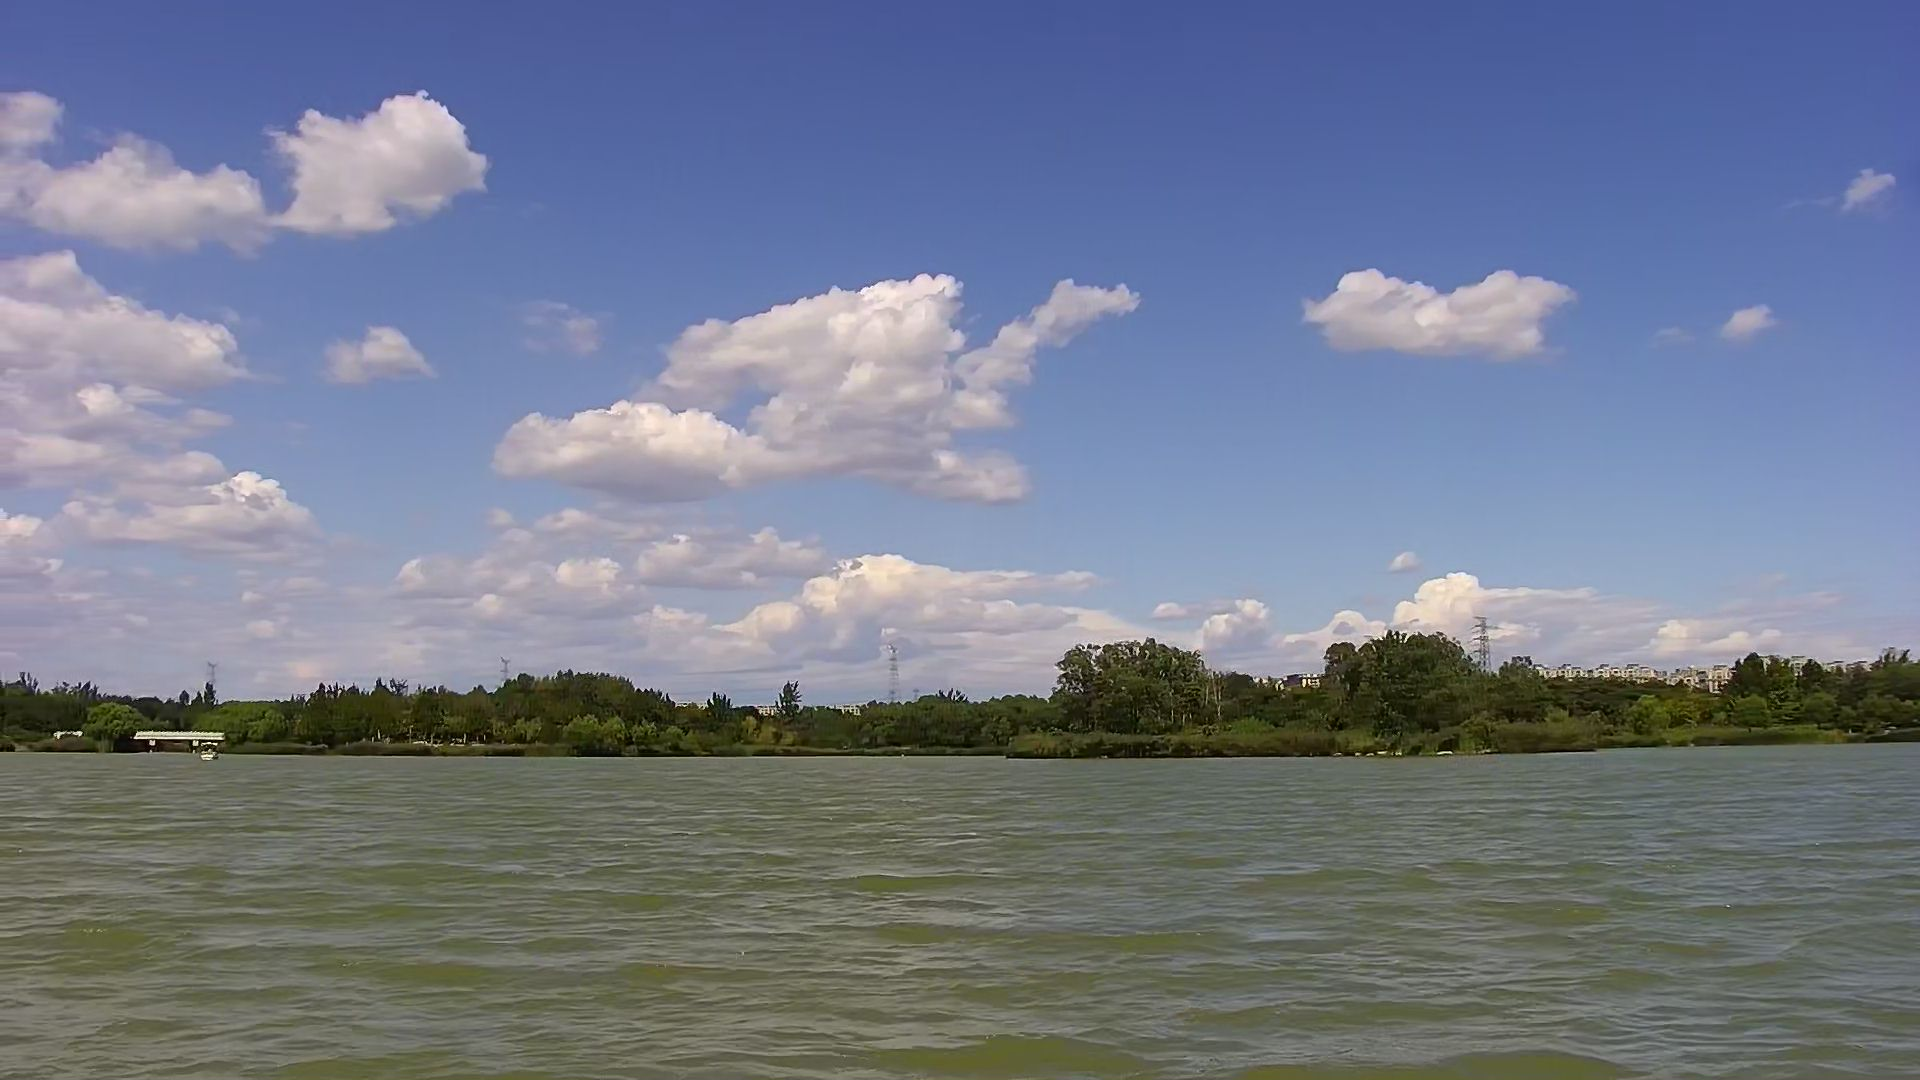boat: (193, 736, 235, 762)
bridge: (127, 723, 235, 762)
